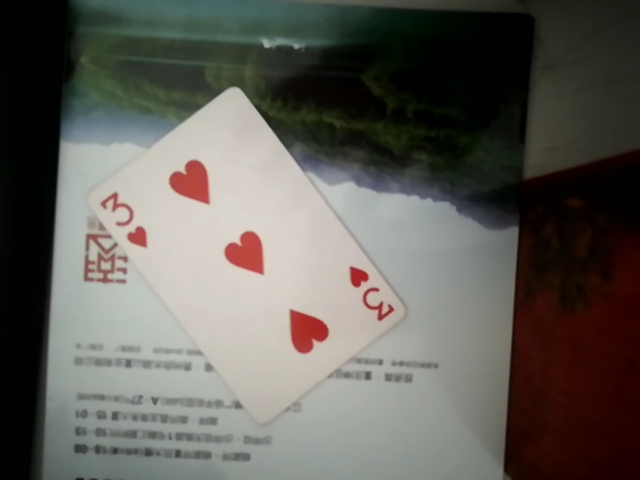hx 3: (70, 90, 409, 415)
